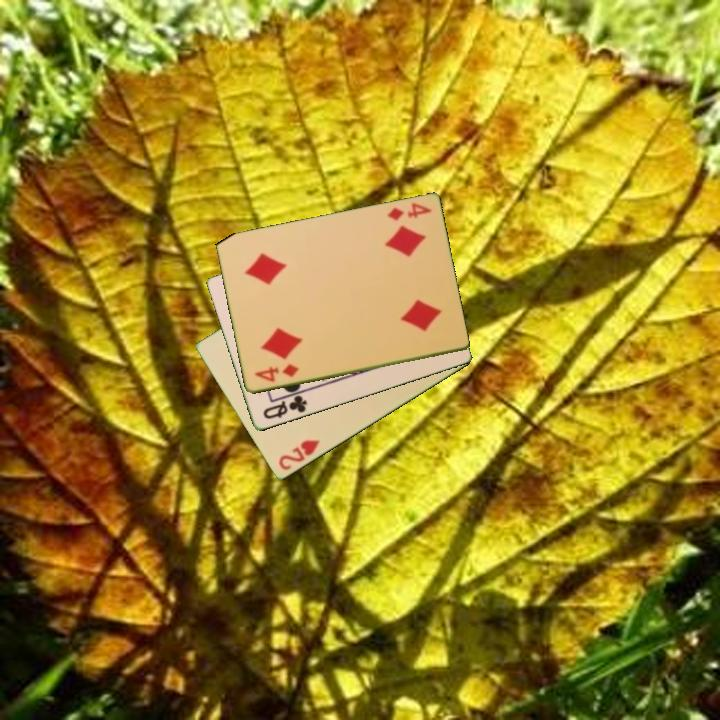2h: (275, 437, 323, 474)
4d: (251, 360, 302, 385), (383, 200, 434, 224)
Qc: (259, 392, 310, 422)
